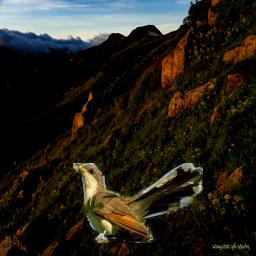Cuckoo: (73, 163, 203, 243)
